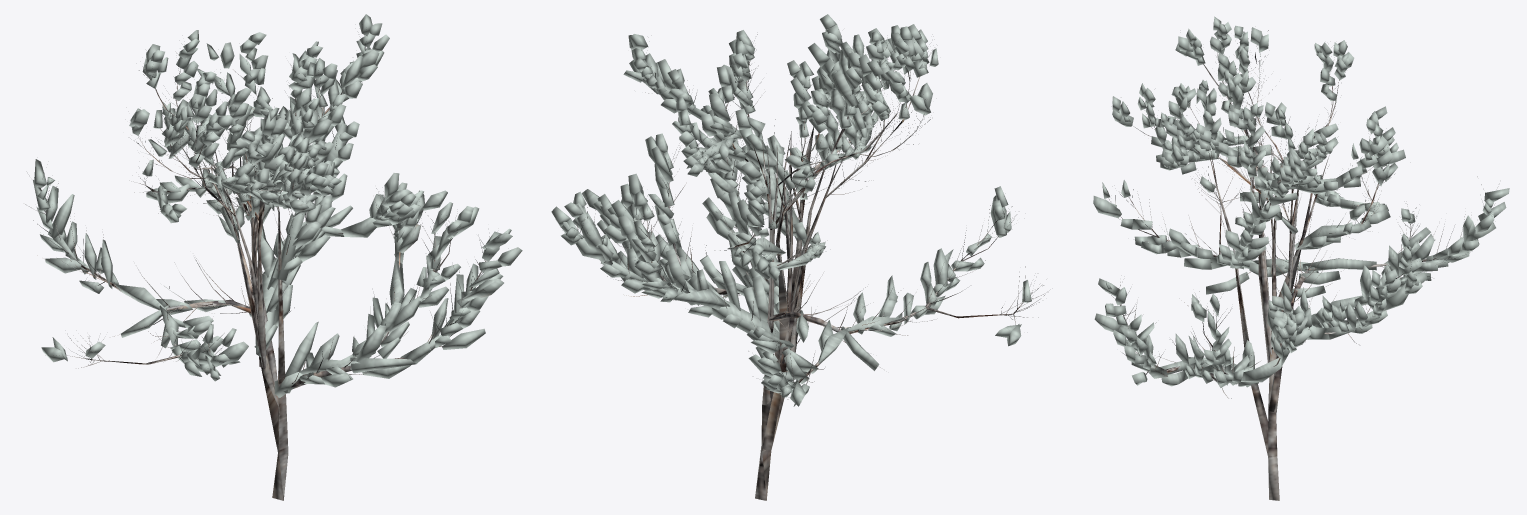
File: Tree3.fbx
3 views of the same model, side by side, from view 1: azimuth 30°, elevation 25°; view 2: azimuth 150°, elevation 25°; view 3: azimuth 270°, elevation 25° (orthographic). The views are drawn at different scales.
Visible parts, largest first — view 1: Tree3(leafless); view 2: Tree3(leafless); view 3: Tree3(leafless).
Part boxes in pixels (left/top/right/bottom): Tree3(leafless): left=25, top=14, right=522, bottom=500; Tree3(leafless): left=551, top=14, right=1044, bottom=500; Tree3(leafless): left=1093, top=16, right=1509, bottom=500.
Size of the model in its own units: 873 by 900 by 800.
